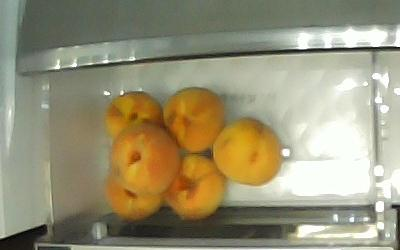peach: (109, 122, 181, 193), (212, 118, 281, 186), (163, 88, 226, 152), (159, 154, 222, 217), (104, 91, 164, 140)
